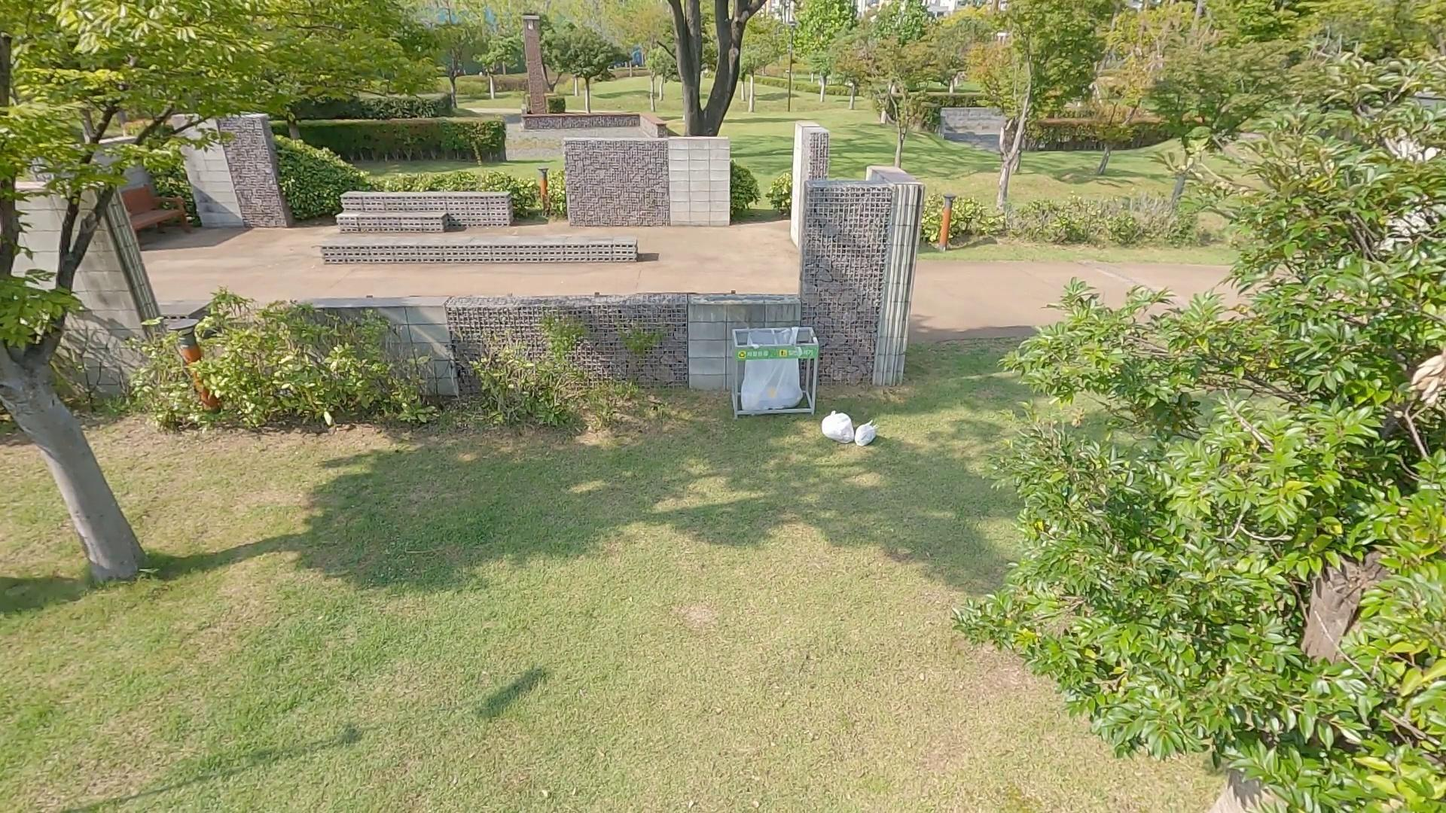trash: (821, 406, 859, 450), (847, 413, 884, 457)
